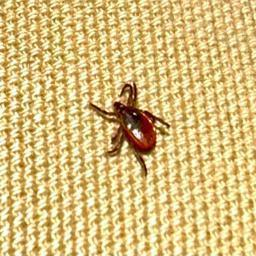Ixodes scapularis: (87, 81, 171, 176)
